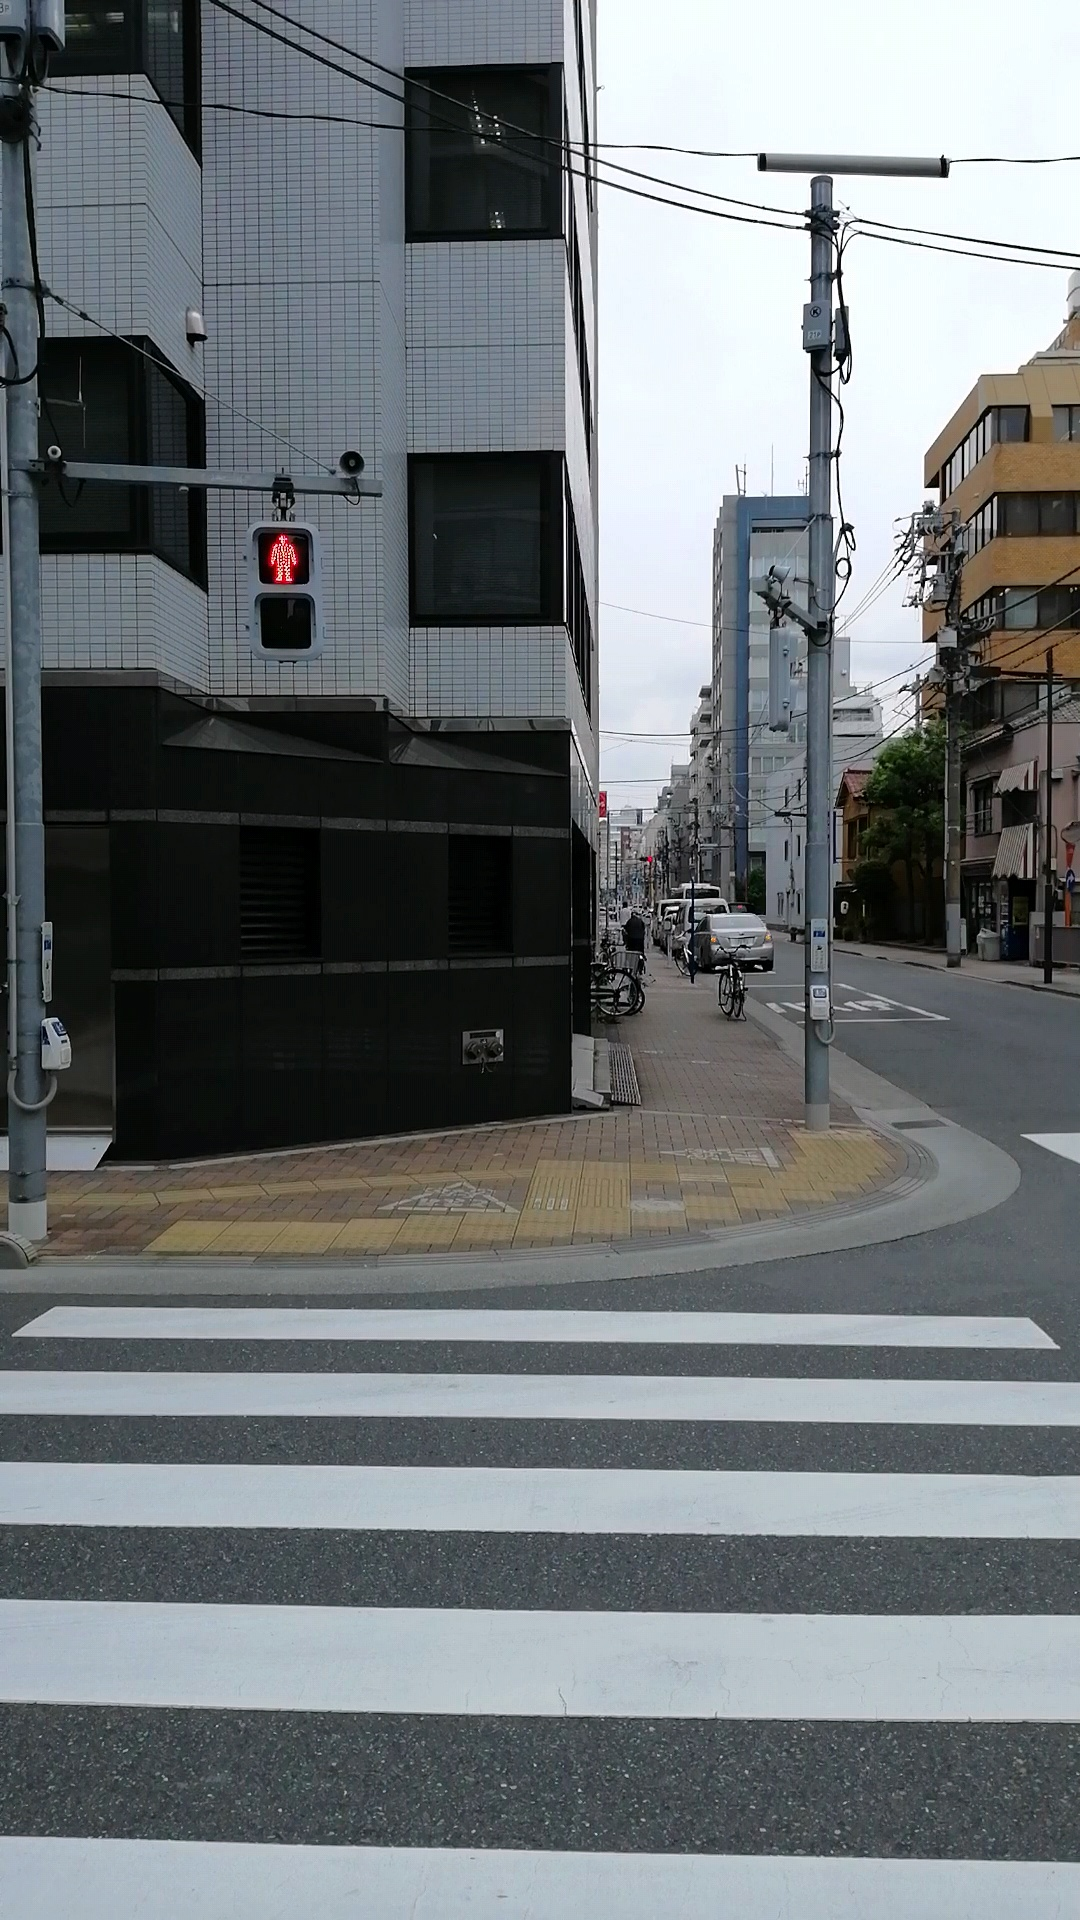red: (245, 520, 324, 661)
